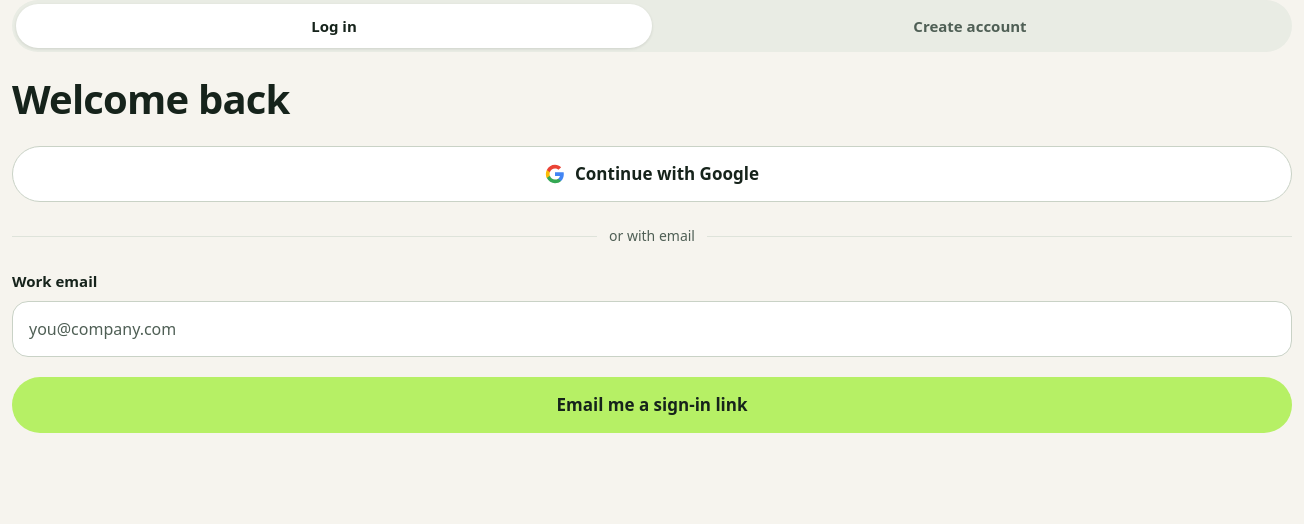
Test: SignInPanel › shows a form-level message when the link could not be sent
The width and height of the screenshot is (1304, 524).
Type "maria@example.com" into the field labelled "Work email" at (652, 328), box [12,300,1292,356]
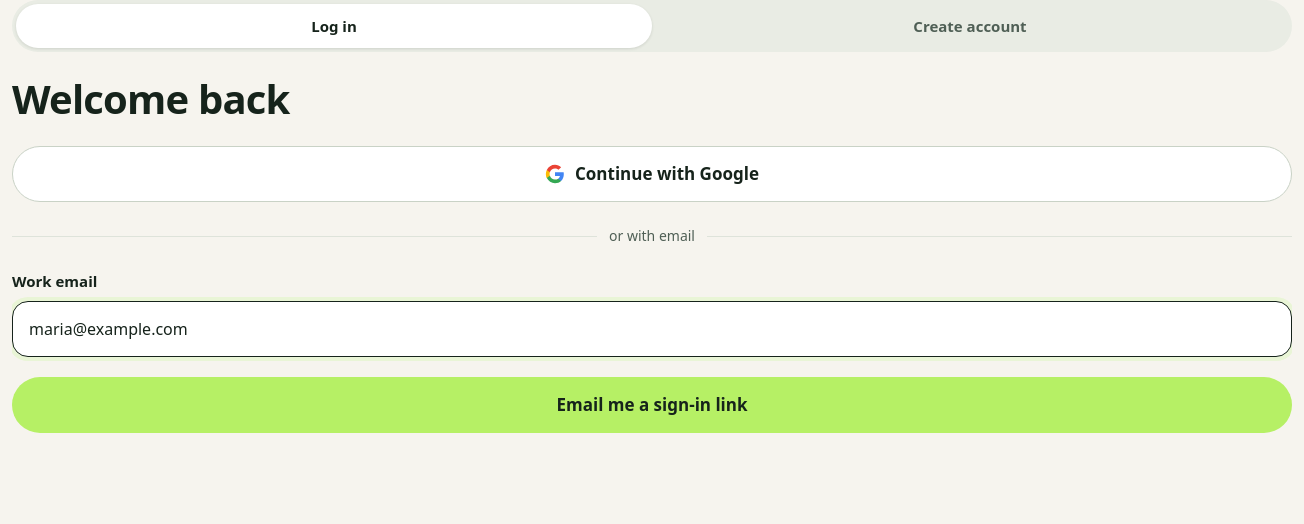
Click the button "Email me a sign-in link" at (652, 404), box [12,376,1292,432]
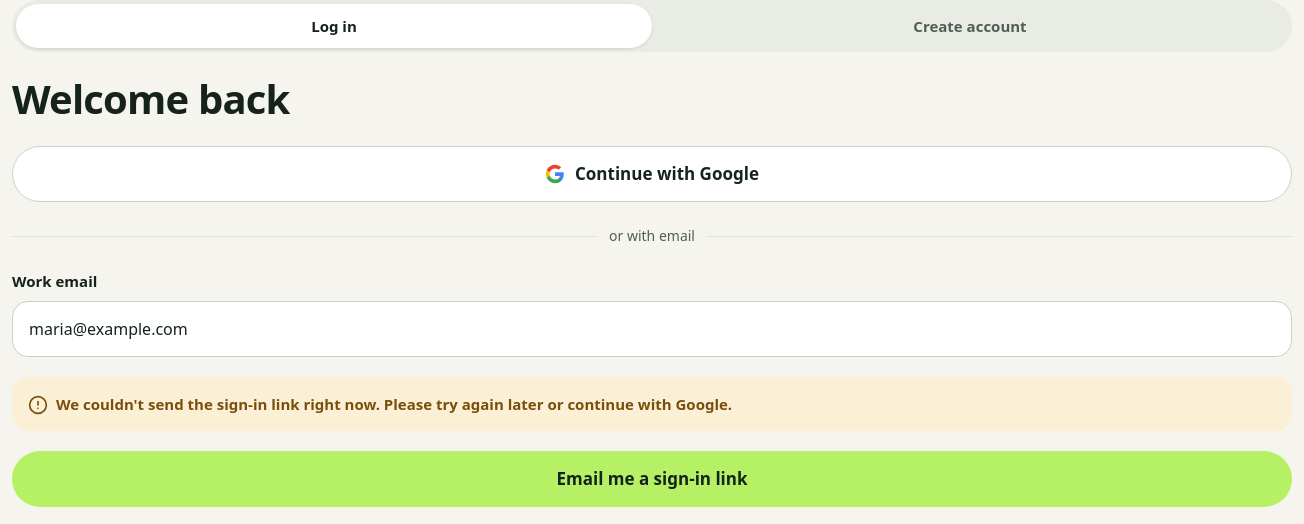
Expected: the message shows "We couldn't send the sign-in link right now. Please try again later or continue with Google.", [56,394,732,414]
